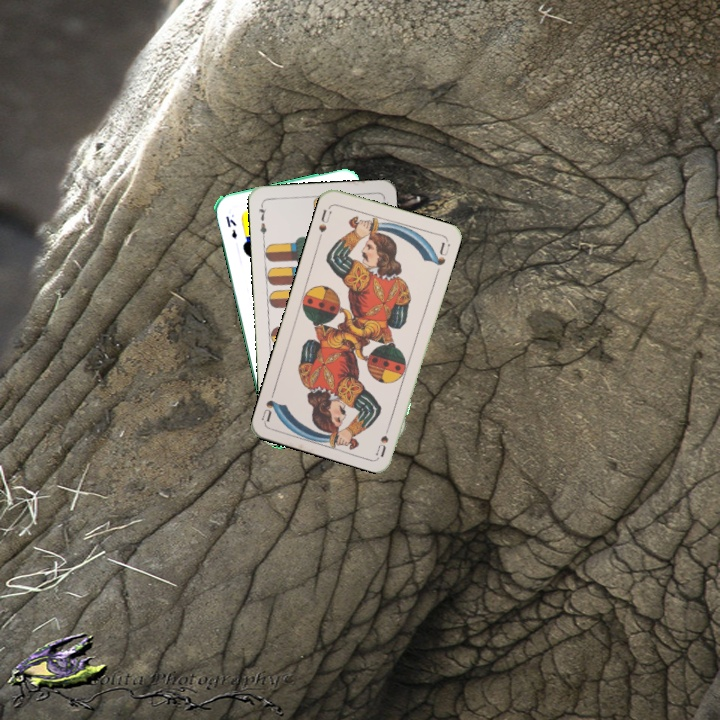E7: (255, 200, 269, 241)
EK: (222, 212, 240, 241)
SU: (372, 418, 394, 458), (314, 205, 334, 242)
